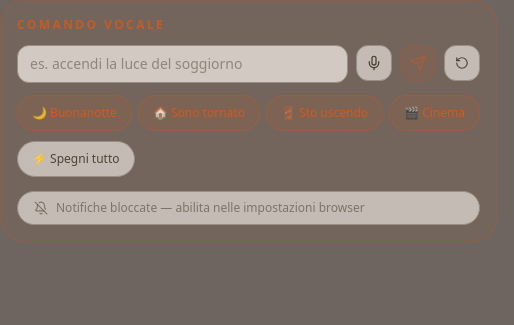
Test case: NLCommandBar — risposte a pulsanti › l'anteprima non mostra mai il device_id
Type "accendi quella" into the field with placeholder "es. accendi la luce del soggiorno". click: (182, 64)
box: [17,45,348,83]
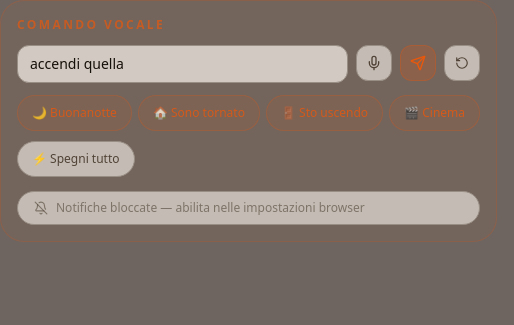
Click the 2nd button. click: (418, 63)
box: [400,45,436,81]
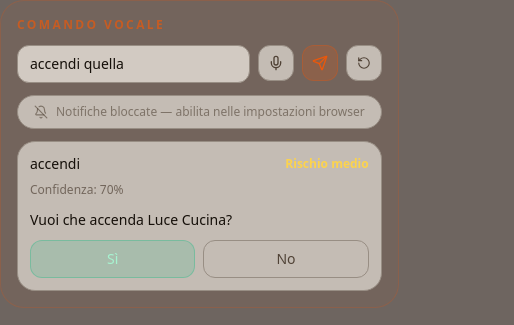
Now the button "Sì" is shown, box [30,240,195,278]
